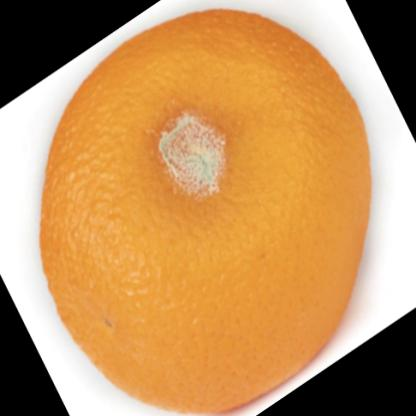rotten: (42, 9, 373, 416)
